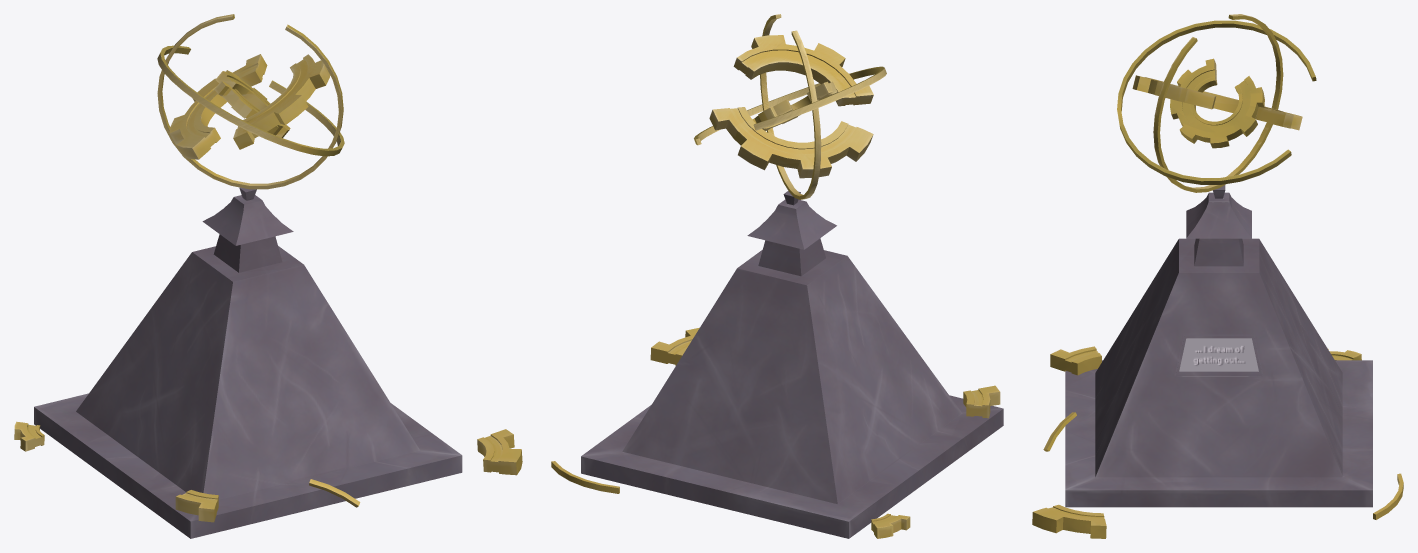
The model's file is statue.fbx.
3 views of the same model, side by side, from view 1: azimuth 30°, elevation 25°; view 2: azimuth 150°, elevation 25°; view 3: azimuth 270°, elevation 25° (orthographic).
Visible parts, largest first — view 1: statue; view 2: statue; view 3: statue.
Boxes of the visible parts, x1=… form: statue: x1=14, y1=14, x2=522, y2=538; statue: x1=551, y1=14, x2=1003, y2=538; statue: x1=1032, y1=14, x2=1403, y2=538.
Size of the model in its own units: 1291 by 1431 by 1136.
